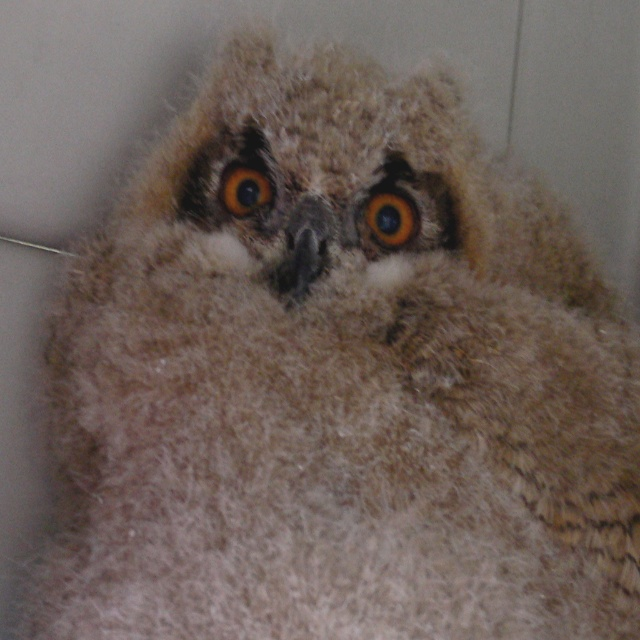Owl: (0, 29, 640, 640)
